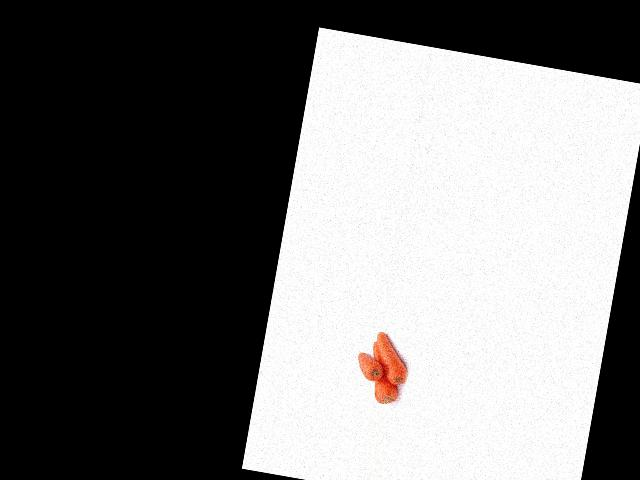carrot: (362, 334, 408, 407)
